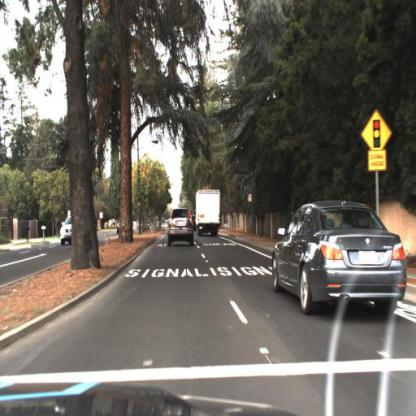car: (268, 195, 408, 320), (165, 201, 199, 254), (193, 186, 226, 240), (57, 211, 73, 251)
truck: (193, 188, 223, 239)
